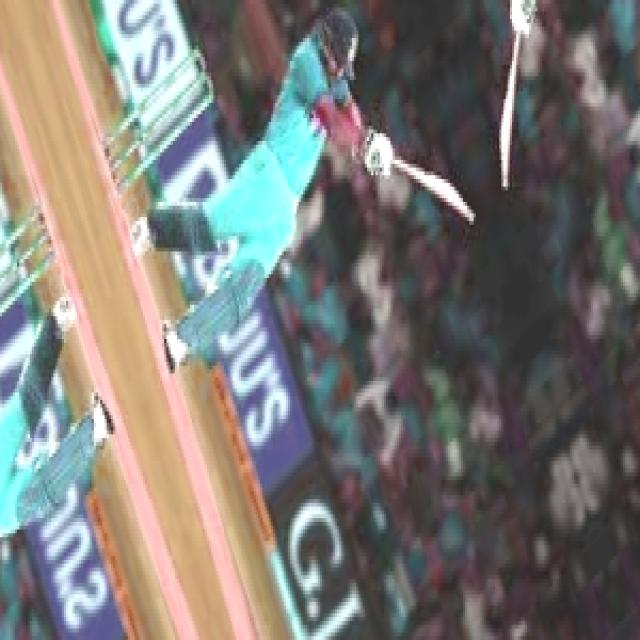toe: (456, 196, 474, 224)
